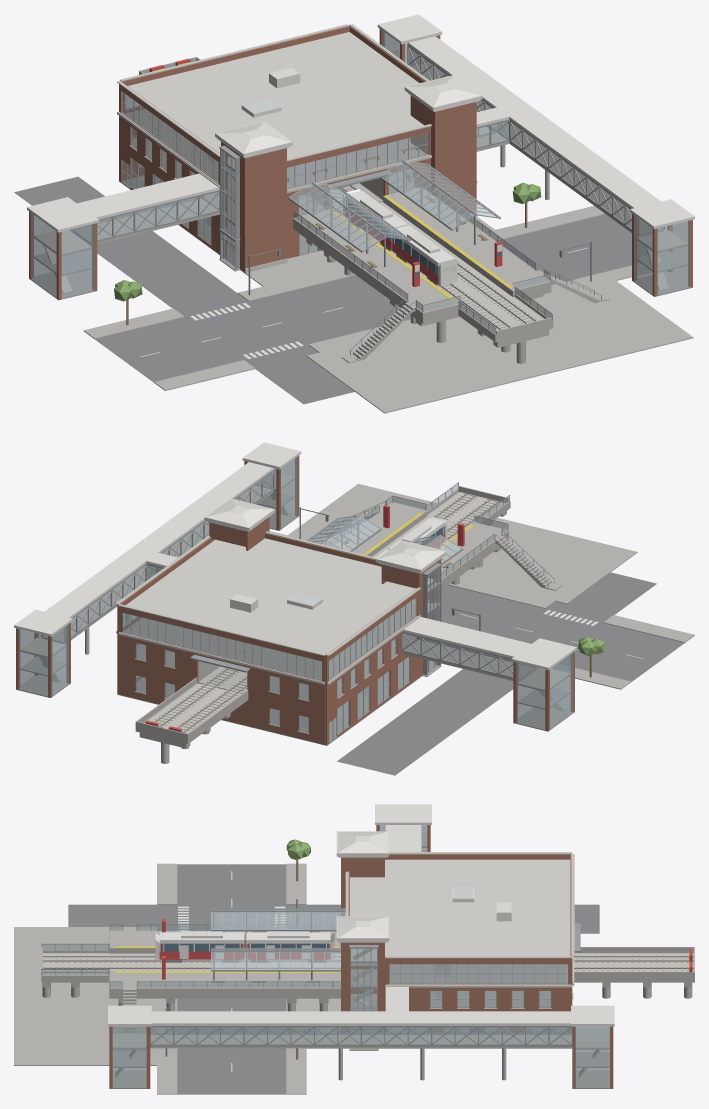
The model's file is clay-ctrain-elevated-station-clay-v004.glb.
3 renders of one model, top to bottom at view 1: azimuth 30°, elevation 25°; view 2: azimuth 150°, elevation 25°; view 3: azimuth 270°, elevation 25°, orthographic. The views are drawn at different scales.
Visible parts, largest first — view 1: CLAY_CONCRETE, CLAY_ASPHALT, CLAY_GLASS, CLAY_WALL, CLAY_MEMBRANE, CLAY_PALE, CLAY_TRIM, CLAY_FLOOR, CLAY_STONE, CLAY_SAND, CLAY_WHITE, CLAY_FOUNDATION (+6 smaller); view 2: CLAY_CONCRETE, CLAY_GLASS, CLAY_WALL, CLAY_MEMBRANE, CLAY_ASPHALT, CLAY_PALE, CLAY_TRIM, CLAY_FLOOR, CLAY_FOUNDATION, CLAY_SAND, CLAY_STONE, CLAY_HARDWARE (+2 smaller); view 3: CLAY_CONCRETE, CLAY_GLASS, CLAY_MEMBRANE, CLAY_ASPHALT, CLAY_PALE, CLAY_TRIM, CLAY_WALL, CLAY_FLOOR, CLAY_SAND, CLAY_WHITE, CLAY_STONE, CLAY_RAIL (+5 smaller).
Part boxes in pixels (x1,y1,x2,y2): CLAY_CONCRETE: (34,48,693,413); CLAY_ASPHALT: (14,176,647,404); CLAY_GLASS: (31,30,689,334); CLAY_WALL: (29,25,692,299); CLAY_MEMBRANE: (128,32,423,169); CLAY_PALE: (27,14,694,253); CLAY_TRIM: (33,45,687,276); CLAY_FLOOR: (126,109,425,225); CLAY_STONE: (117,24,477,272); CLAY_SAND: (338,202,542,333); CLAY_WHITE: (140,189,587,359); CLAY_FOUNDATION: (30,175,692,299); CLAY_CONCRETE: (21,472,694,763); CLAY_GLASS: (18,457,573,741); CLAY_WALL: (16,455,574,744); CLAY_MEMBRANE: (126,538,433,654); CLAY_ASPHALT: (337,572,684,775); CLAY_PALE: (14,442,576,670); CLAY_TRIM: (20,470,570,742); CLAY_FLOOR: (123,580,434,699); CLAY_FOUNDATION: (16,509,574,745); CLAY_SAND: (148,492,505,733); CLAY_STONE: (115,531,441,734); CLAY_HARDWARE: (299,482,554,631); CLAY_CONCRETE: (14,832,694,1094); CLAY_GLASS: (41,825,609,1087); CLAY_MEMBRANE: (350,859,570,961); CLAY_ASPHALT: (68,864,599,1094); CLAY_PALE: (108,804,614,1026); CLAY_TRIM: (112,828,609,1067); CLAY_WALL: (109,825,613,1088); CLAY_FLOOR: (351,961,567,1011); CLAY_SAND: (42,953,693,975); CLAY_WHITE: (155,871,334,1071); CLAY_STONE: (345,852,574,1050); CLAY_RAIL: (42,934,693,972).
Bounding box in the file's own units: 80 × 18.7 × 100.
